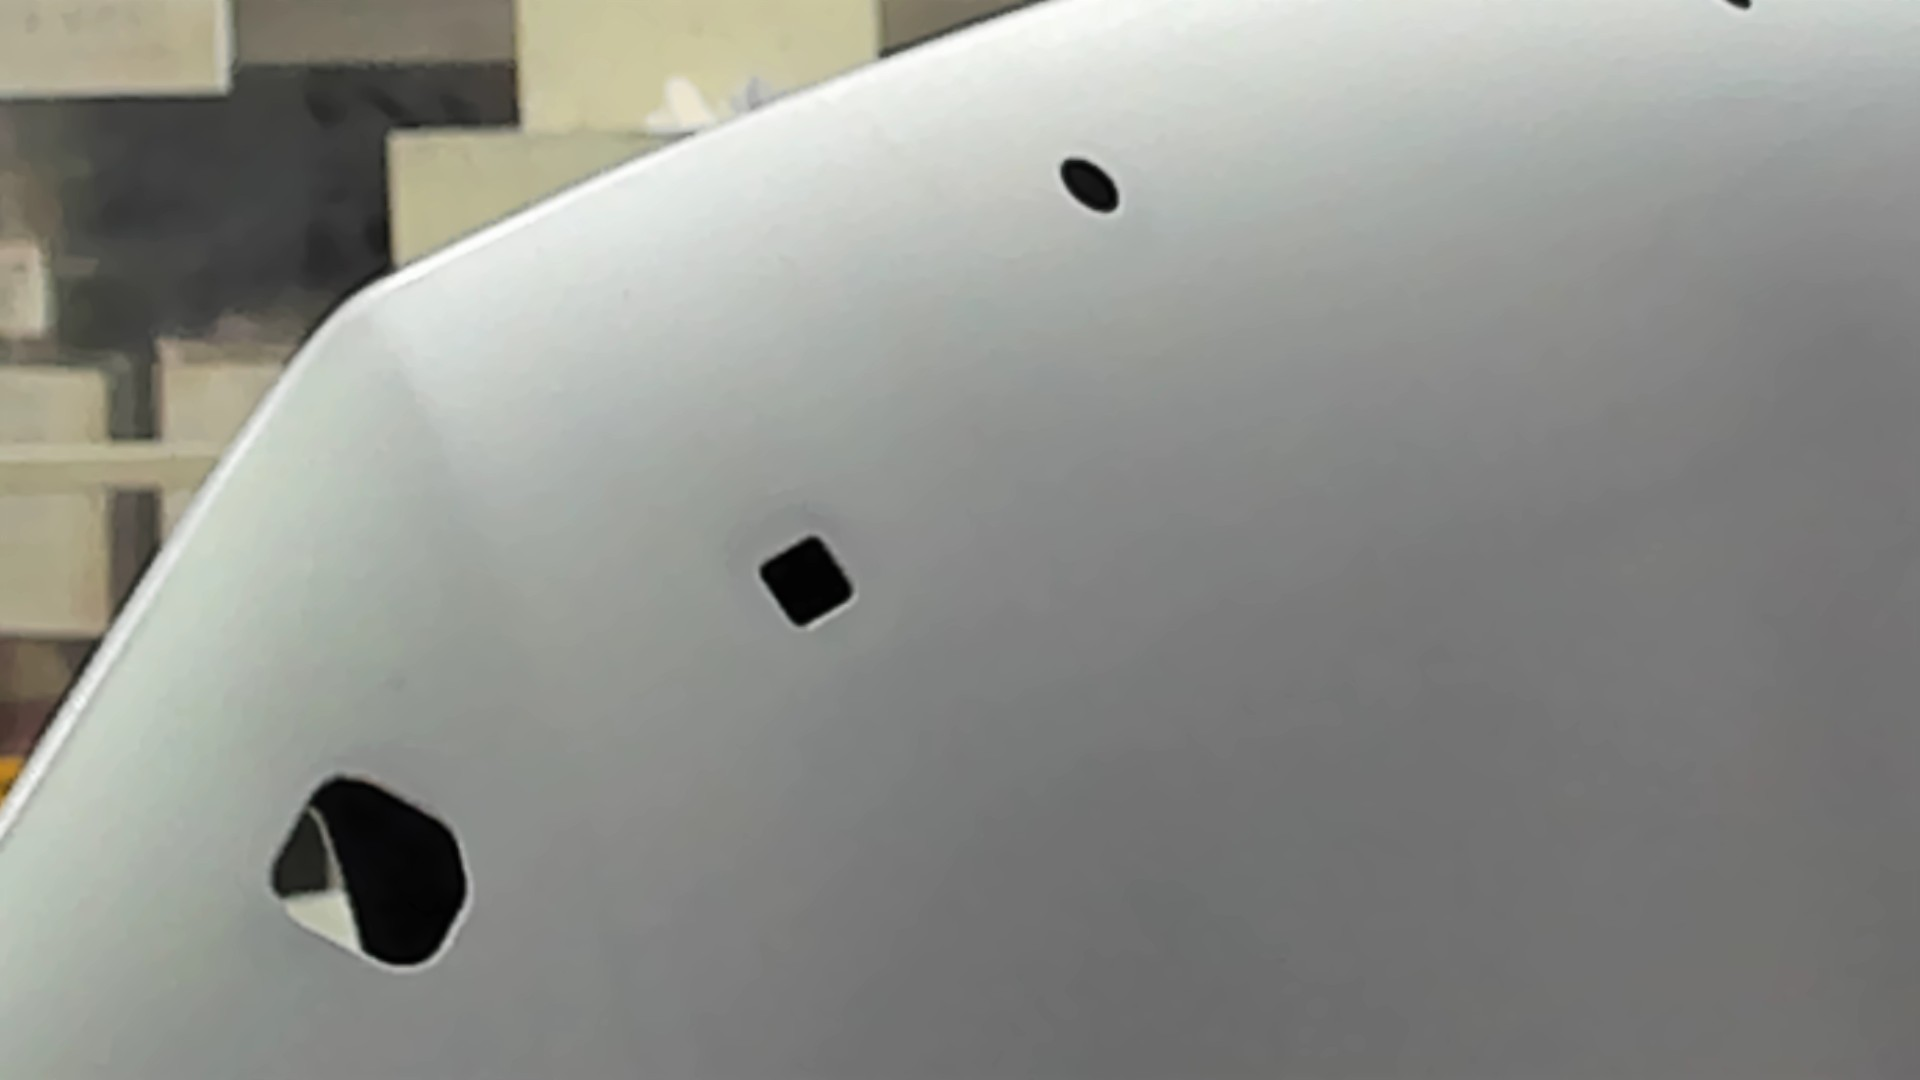chico: (1058, 154, 1124, 218), (1724, 1, 1756, 15)
grande: (266, 771, 475, 977)
mediano: (756, 533, 857, 633)
